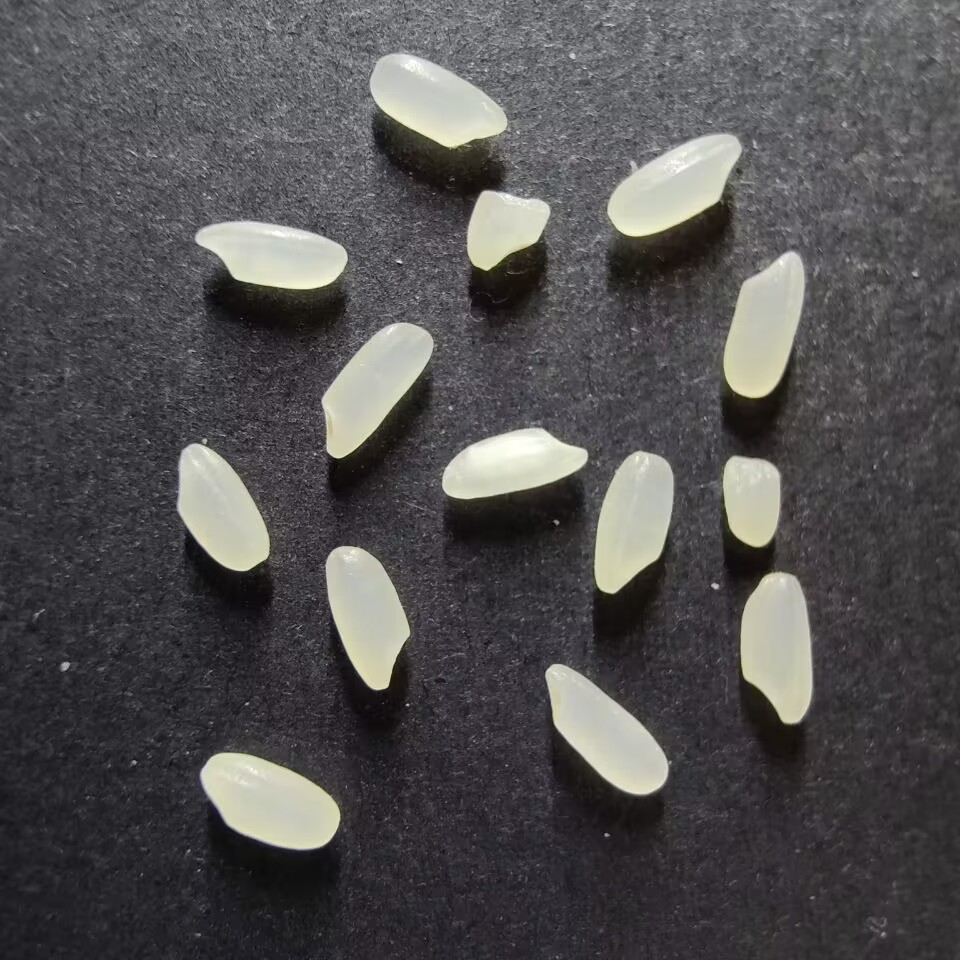broken: (465, 189, 550, 272), (721, 456, 782, 548)
rice: (544, 662, 669, 795), (320, 322, 434, 459), (607, 132, 743, 237), (199, 752, 341, 850), (369, 53, 507, 148), (324, 545, 410, 691), (722, 249, 805, 397), (175, 442, 270, 571), (593, 451, 675, 593), (739, 570, 813, 725), (194, 220, 348, 290), (440, 427, 588, 499)
